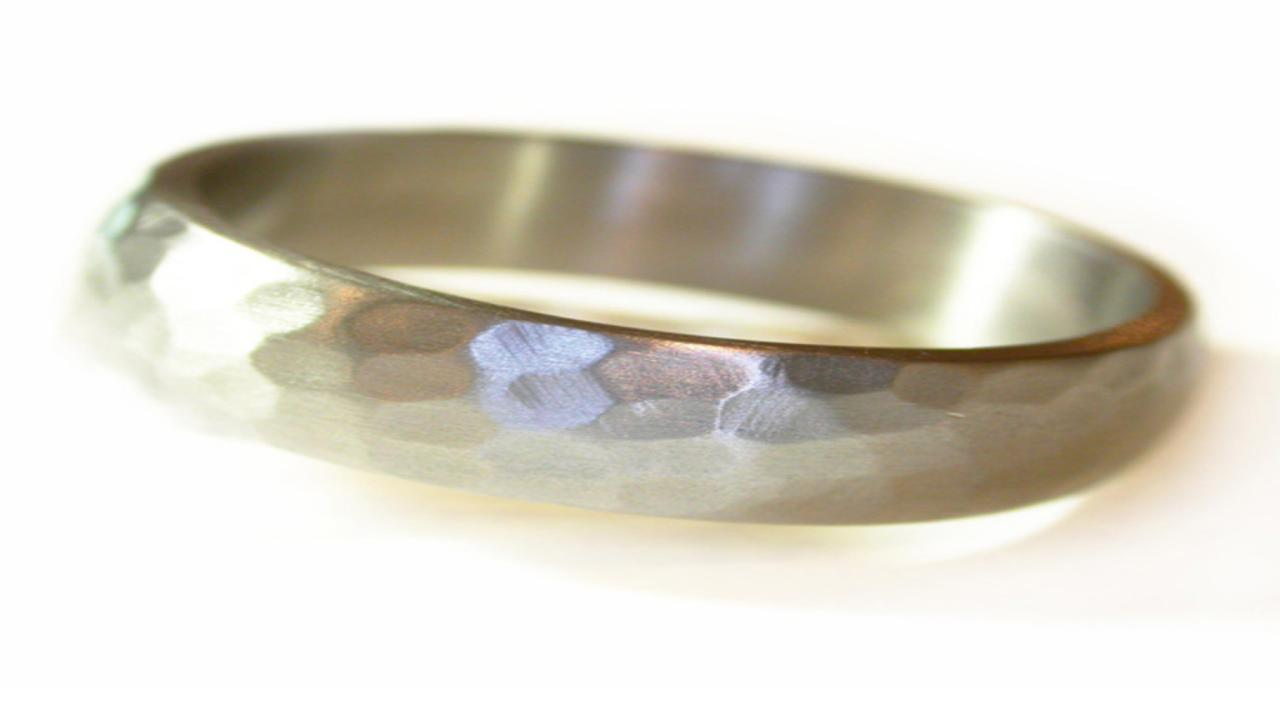ring: (71, 124, 1200, 528)
